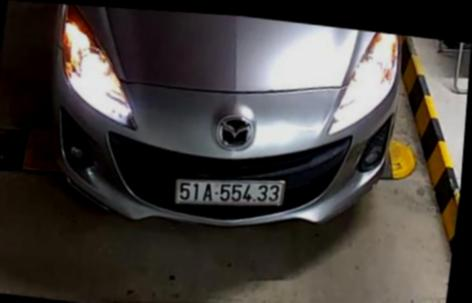License_Plate: (168, 171, 288, 215)
